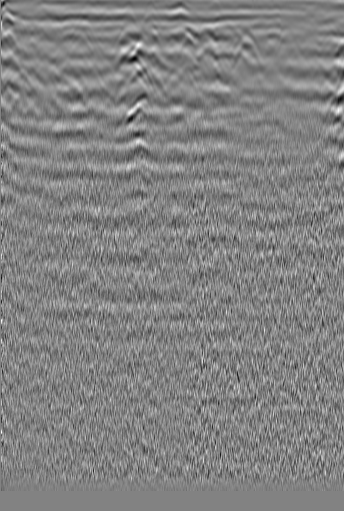가스: (121, 136, 154, 163)
상수: (301, 9, 321, 29)
오수: (28, 25, 48, 45)
우수: (176, 24, 196, 44)
